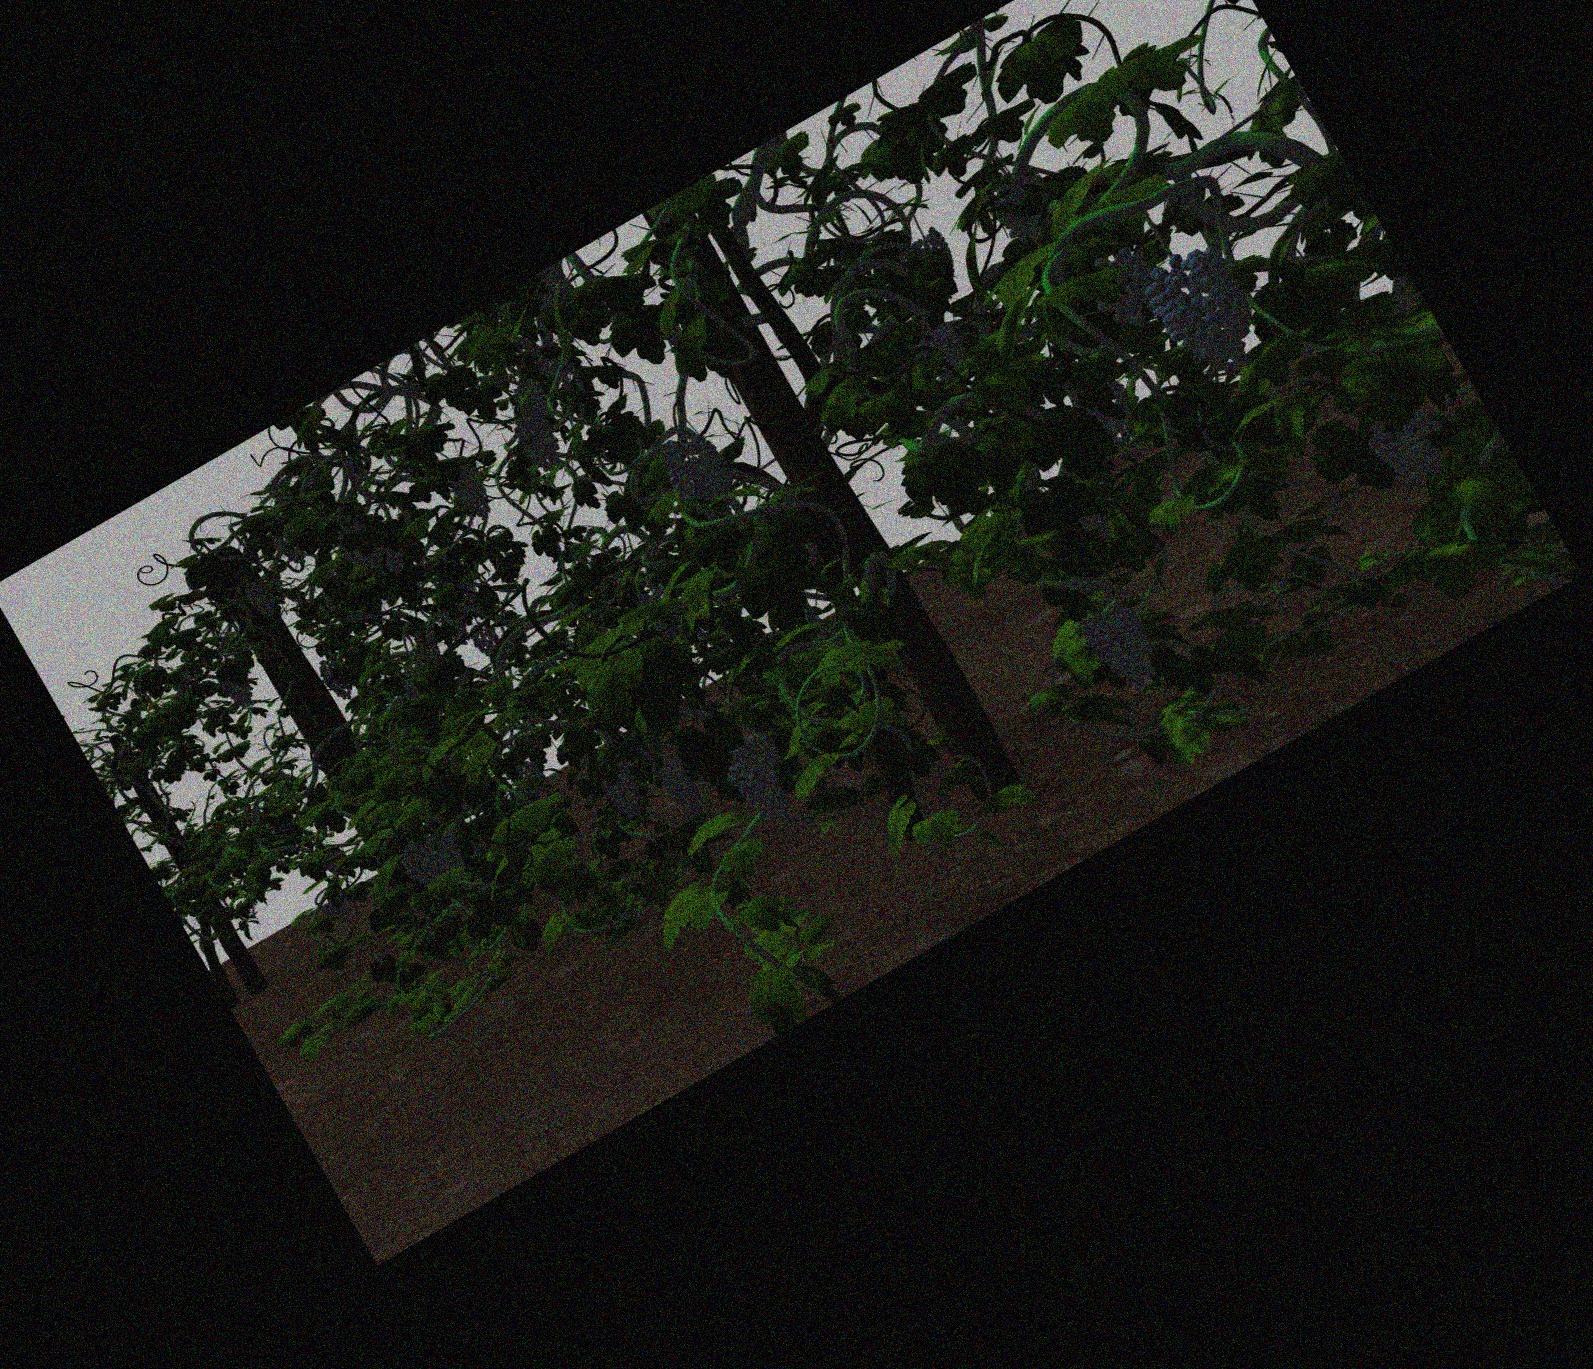grape: (1166, 257, 1248, 376), (1376, 408, 1447, 477), (1095, 607, 1149, 691), (1095, 252, 1153, 324), (737, 742, 786, 826), (671, 436, 723, 506), (927, 329, 967, 378), (522, 412, 555, 470), (666, 760, 700, 817), (455, 464, 488, 519), (607, 766, 639, 819), (345, 525, 377, 571), (429, 833, 461, 875), (406, 845, 432, 890), (248, 577, 274, 616), (224, 670, 251, 707), (474, 622, 500, 655), (516, 382, 545, 409), (331, 895, 351, 926)
